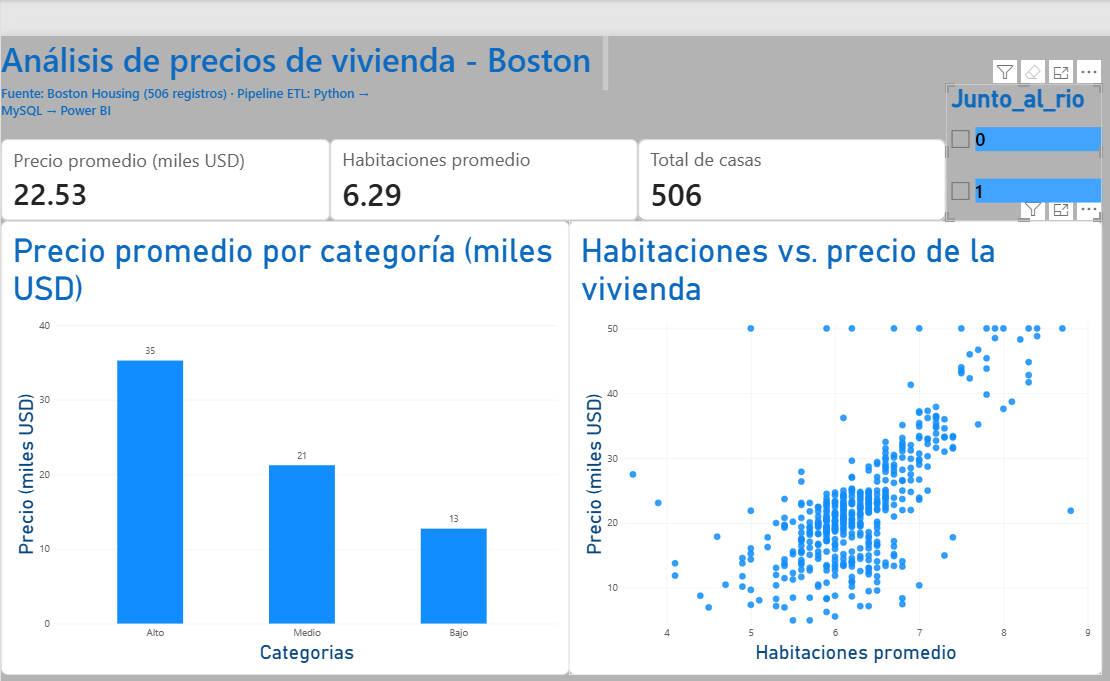

The dashboard page shown, as its layout file describes it:
{"tool":"powerbi","page":{"name":"Página 1","canvas":[1920,1080],"ordinal":0},"visuals":[{"type":"clusteredColumnChart","title":"Precio promedio por categoría (miles USD)","fields":{"Category":["etl_demo boston_housing_limpio.categoria_precio"],"Y":["Avg(etl_demo boston_housing_limpio.precio_medio_miles)"]},"box":[0,269.9,828.7,662.4],"z":0},{"type":"cardVisual","title":"Precio promedio (miles USD)","fields":{"Data":["Avg(etl_demo boston_housing_limpio.precio_medio_miles)"]},"box":[0,150.3,480,119.6],"z":1000},{"type":"cardVisual","fields":{"Data":["Avg(etl_demo boston_housing_limpio.promedio_habitaciones)"]},"box":[480,150.3,449.4,119.6],"z":2000},{"type":"cardVisual","fields":{"Data":["CountNonNull(etl_demo boston_housing_limpio.categoria_precio)"]},"box":[929.4,150.3,449.4,119.6],"z":3000},{"type":"scatterChart","title":"Habitaciones vs. precio de la vivienda","fields":{"X":["etl_demo boston_housing_limpio.promedio_habitaciones"],"Y":["etl_demo boston_housing_limpio.precio_medio_miles"]},"box":[828.7,269.9,777.6,662.4],"z":4000},{"type":"slicer","fields":{"Values":["etl_demo boston_housing_limpio.junto_al_rio"]},"box":[1378.7,70,227.6,199.9],"z":5000},{"type":"textbox","box":[0,0,885.6,80.6],"z":6000},{"type":"textbox","box":[0,69.8,559.9,80.6],"z":6001}]}

Visuals, with their boxes on the page's 1920x1080 design canvas (x1, y1, x2, y2). These are canvas units, not pixel positions in the 1110x681 screenshot, which may show the page scaled, cropped or inside an application window:
"Precio promedio por categoría (miles USD)" clusteredColumnChart: <region>0, 270, 829, 932</region>
"Precio promedio (miles USD)" cardVisual: <region>0, 150, 480, 270</region>
cardVisual - Avg(etl_demo boston_housing_limpio.promedio_habitaciones): <region>480, 150, 929, 270</region>
cardVisual - CountNonNull(etl_demo boston_housing_limpio.categoria_precio): <region>929, 150, 1379, 270</region>
"Habitaciones vs. precio de la vivienda" scatterChart: <region>829, 270, 1606, 932</region>
slicer - etl_demo boston_housing_limpio.junto_al_rio: <region>1379, 70, 1606, 270</region>
textbox: <region>0, 0, 886, 81</region>
textbox: <region>0, 70, 560, 150</region>
